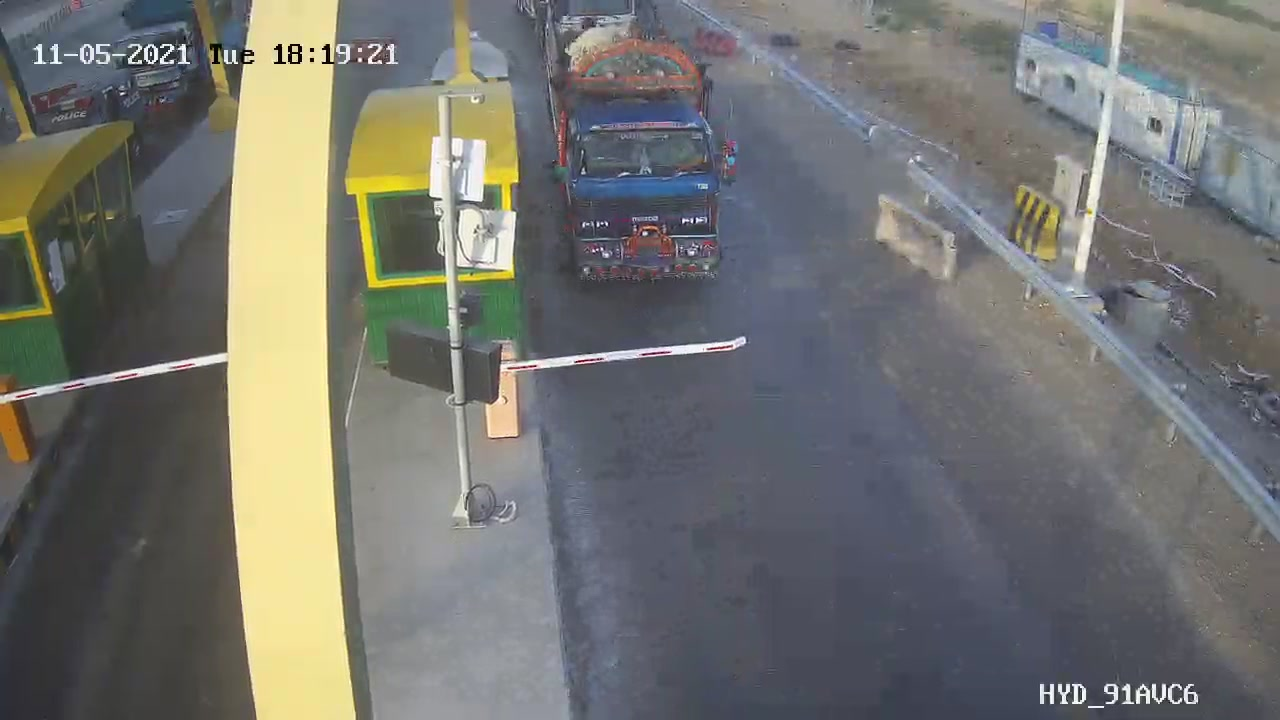F5: (531, 4, 732, 294)
